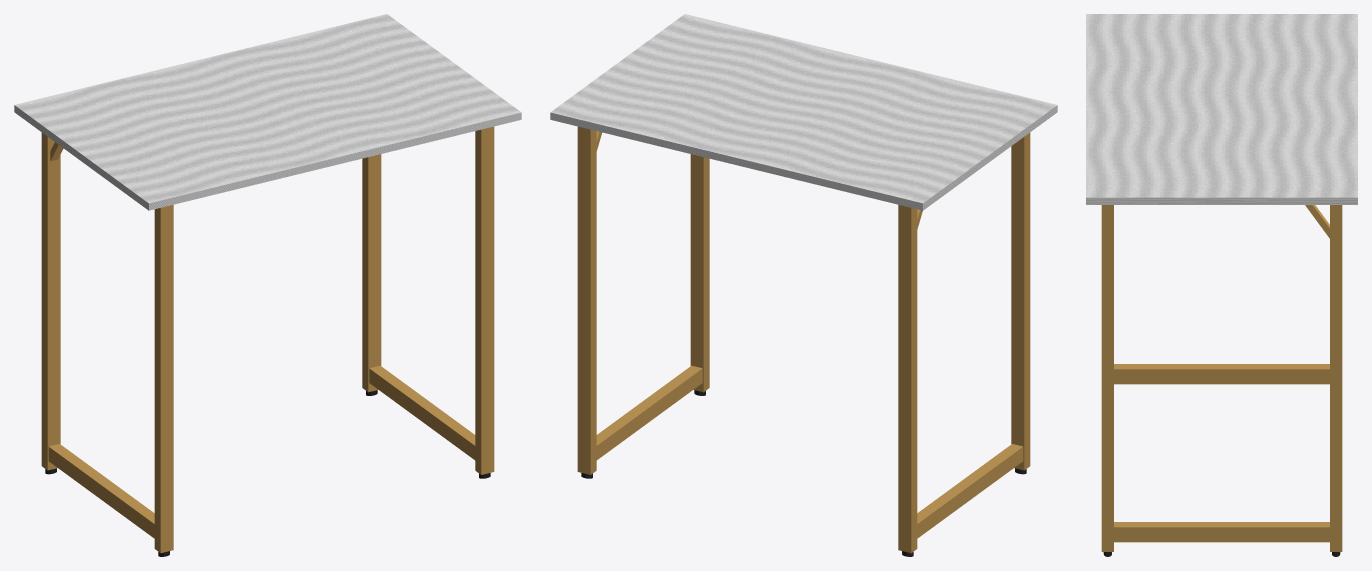
3 views of the same model, side by side, from view 1: azimuth 30°, elevation 25°; view 2: azimuth 150°, elevation 25°; view 3: azimuth 270°, elevation 25° (orthographic).
Parts seen in each view (by area): view 1: 1 tabletop, 2 left_front_leg, 4 right_front_leg, 3 left_back_leg, 5 right_back_leg, 7 right_bottom_stretcher, 6 left_bottom_stretcher; view 2: 1 tabletop, 3 left_back_leg, 5 right_back_leg, 2 left_front_leg, 4 right_front_leg, 7 right_bottom_stretcher, 6 left_bottom_stretcher; view 3: 1 tabletop, 6 left_bottom_stretcher, 7 right_bottom_stretcher, 4 right_front_leg, 5 right_back_leg.
Part boxes in pixels (box(x1,y1,x2,y2)): 1 tabletop: box(14, 14, 521, 210); 2 left_front_leg: box(154, 204, 173, 553); 4 right_front_leg: box(475, 126, 494, 474); 3 left_back_leg: box(41, 132, 60, 470); 5 right_back_leg: box(362, 154, 381, 392); 7 right_bottom_stretcher: box(369, 365, 475, 460); 6 left_bottom_stretcher: box(48, 444, 154, 538); 1 tabletop: box(550, 14, 1057, 210); 3 left_back_leg: box(898, 204, 917, 553); 5 right_back_leg: box(577, 126, 596, 474); 2 left_front_leg: box(1011, 132, 1030, 470); 4 right_front_leg: box(690, 154, 709, 392); 7 right_bottom_stretcher: box(596, 365, 702, 460); 6 left_bottom_stretcher: box(917, 444, 1023, 538); 1 tabletop: box(1086, 14, 1357, 204); 6 left_bottom_stretcher: box(1114, 364, 1329, 384); 7 right_bottom_stretcher: box(1114, 522, 1329, 542); 4 right_front_leg: box(1101, 205, 1113, 551); 5 right_back_leg: box(1330, 205, 1342, 551).
Bounding box in the file's own units: 0.8128 × 0.762 × 0.508.
Materials: 3 (1 with a texture image).
